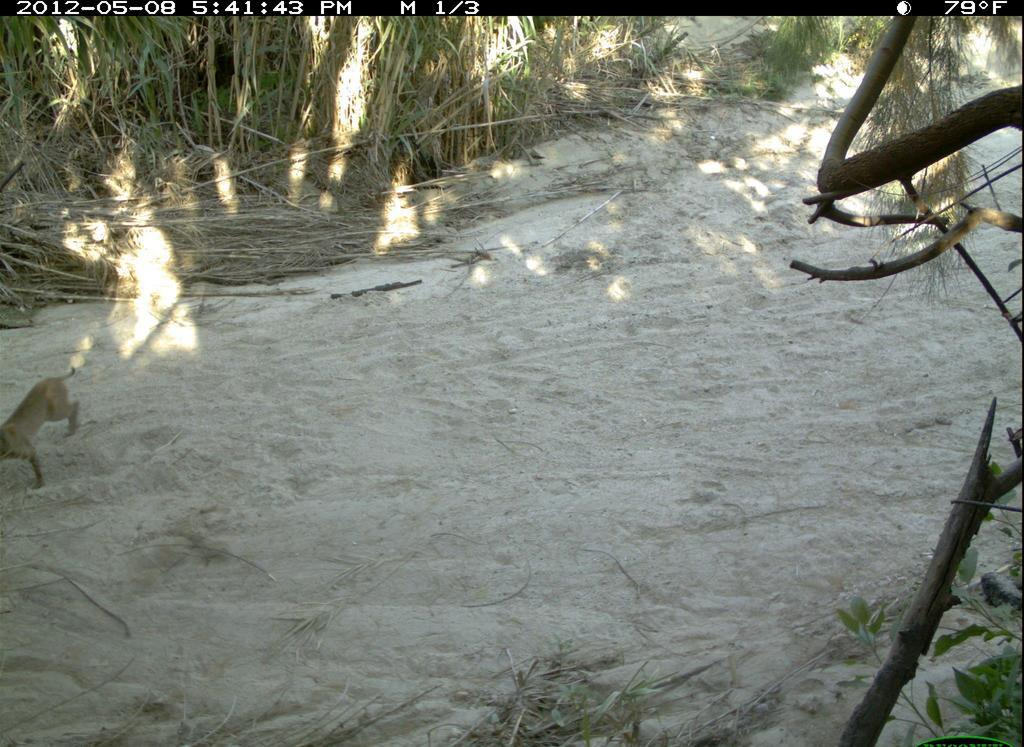bobcat: (1, 360, 94, 487)
